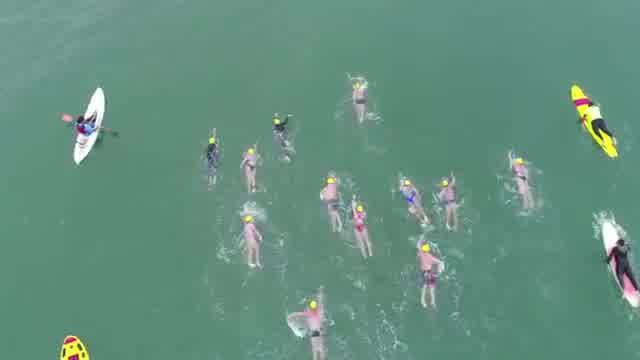swimmer: (288, 294, 334, 360), (348, 199, 384, 260), (317, 178, 352, 228), (394, 180, 432, 226), (417, 238, 441, 308), (239, 210, 267, 266), (239, 136, 263, 193), (509, 154, 534, 206), (346, 80, 374, 124), (439, 178, 460, 233), (203, 129, 223, 182), (273, 114, 297, 154)
